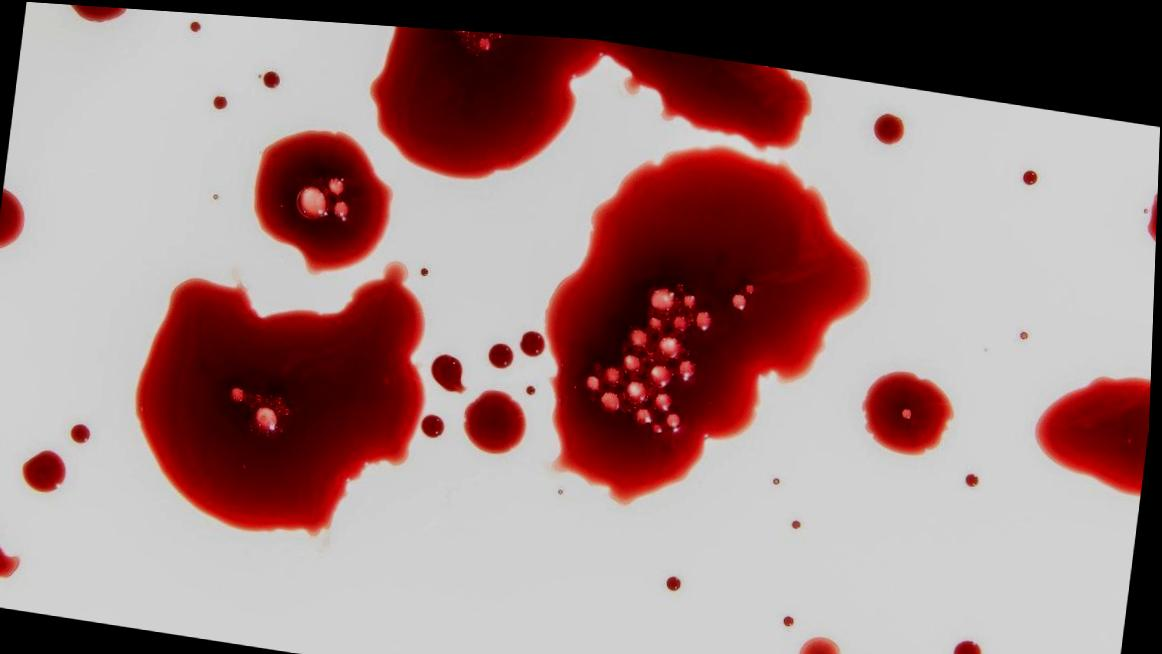Fire: (546, 137, 873, 497), (139, 256, 429, 531), (370, 21, 813, 174), (255, 126, 395, 271), (1037, 360, 1153, 481), (865, 359, 957, 443), (466, 383, 530, 449), (25, 450, 71, 493), (0, 188, 27, 249), (433, 349, 470, 387), (803, 625, 848, 654), (874, 101, 906, 133), (0, 544, 25, 579), (958, 627, 987, 654), (522, 324, 548, 351), (491, 337, 517, 362), (425, 409, 448, 432), (1149, 178, 1159, 227), (264, 68, 281, 86), (214, 94, 228, 107)
